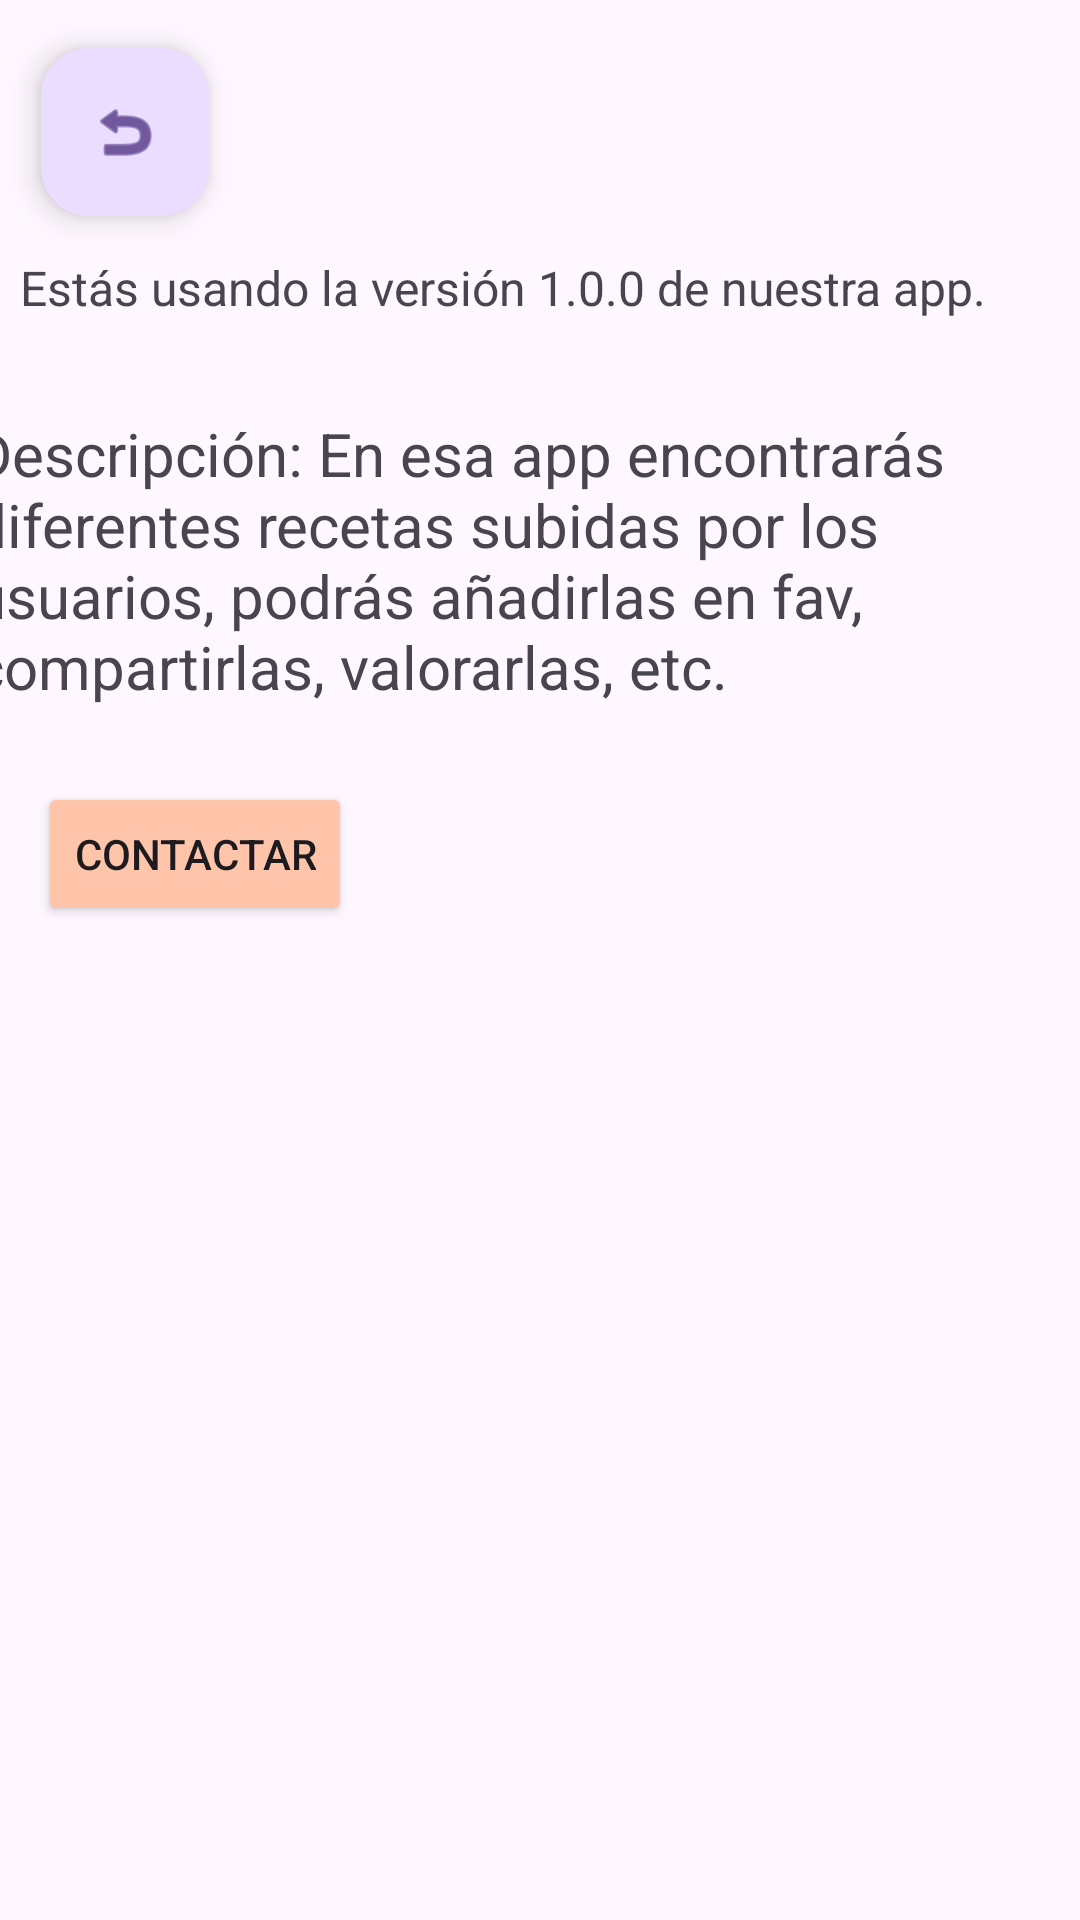

Icon bounding boxes for this 1080x1920 phone screenshot, format (x1, y1, x2, y2):
revert: (100, 109, 152, 156)
